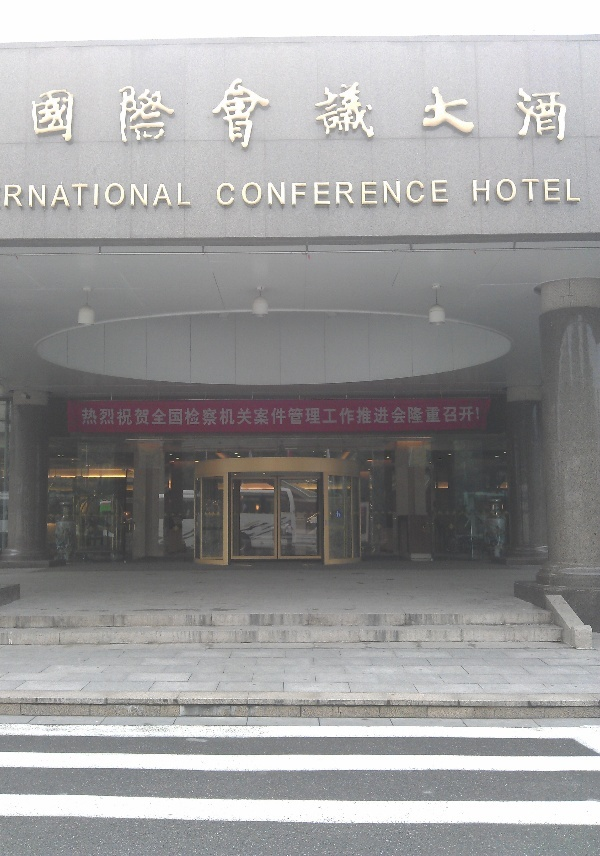text: (33, 74, 48, 152), (49, 74, 64, 152), (65, 74, 80, 152), (81, 74, 96, 152), (97, 74, 112, 152), (113, 74, 128, 152), (129, 74, 144, 152), (145, 74, 160, 152), (161, 74, 176, 152), (177, 74, 192, 152), (193, 74, 208, 152), (209, 74, 224, 152), (225, 74, 240, 152), (241, 74, 256, 152), (257, 74, 272, 152), (273, 74, 288, 152), (289, 74, 304, 152), (305, 74, 320, 152), (321, 74, 336, 152), (337, 74, 352, 152), (353, 74, 368, 152), (369, 74, 384, 152), (385, 74, 400, 152), (401, 74, 416, 152), (417, 74, 432, 152), (433, 74, 448, 152), (449, 74, 464, 152), (465, 74, 480, 152), (481, 74, 496, 152), (497, 74, 512, 152), (513, 74, 528, 152), (529, 74, 544, 152), (545, 74, 560, 152), (561, 74, 569, 152), (1, 181, 16, 215), (17, 181, 32, 215), (33, 181, 48, 215), (49, 181, 64, 215), (65, 181, 80, 215), (81, 181, 96, 215), (97, 181, 112, 215), (113, 181, 128, 215), (129, 181, 144, 215), (145, 181, 160, 215), (161, 181, 176, 215), (177, 181, 192, 215), (225, 179, 240, 210), (241, 179, 256, 210), (257, 179, 272, 210), (273, 179, 288, 210), (289, 179, 304, 210), (305, 179, 320, 210), (321, 179, 336, 210), (337, 179, 352, 210), (353, 179, 368, 210), (369, 179, 384, 210), (385, 179, 400, 210), (401, 179, 416, 210), (417, 179, 432, 210), (433, 179, 448, 210), (481, 177, 496, 206), (497, 177, 512, 206), (513, 177, 528, 206), (529, 177, 544, 206), (545, 177, 560, 206), (561, 177, 576, 206), (97, 405, 112, 427), (113, 405, 128, 427), (129, 405, 144, 427), (145, 405, 160, 427), (161, 405, 176, 427), (177, 405, 192, 427), (193, 405, 208, 427), (209, 405, 224, 427), (225, 405, 240, 427), (241, 405, 256, 427), (257, 405, 272, 427), (273, 405, 288, 427), (289, 405, 304, 427), (305, 405, 320, 427), (321, 405, 336, 427), (337, 405, 352, 427), (353, 405, 368, 427), (369, 405, 384, 427), (385, 405, 400, 427), (401, 405, 416, 427), (417, 405, 432, 427), (433, 405, 448, 427), (449, 405, 464, 427), (465, 405, 480, 427), (28, 74, 32, 152), (214, 179, 224, 210), (82, 405, 96, 427), (471, 177, 480, 206), (577, 177, 580, 206), (481, 405, 483, 427), (449, 179, 450, 210)
